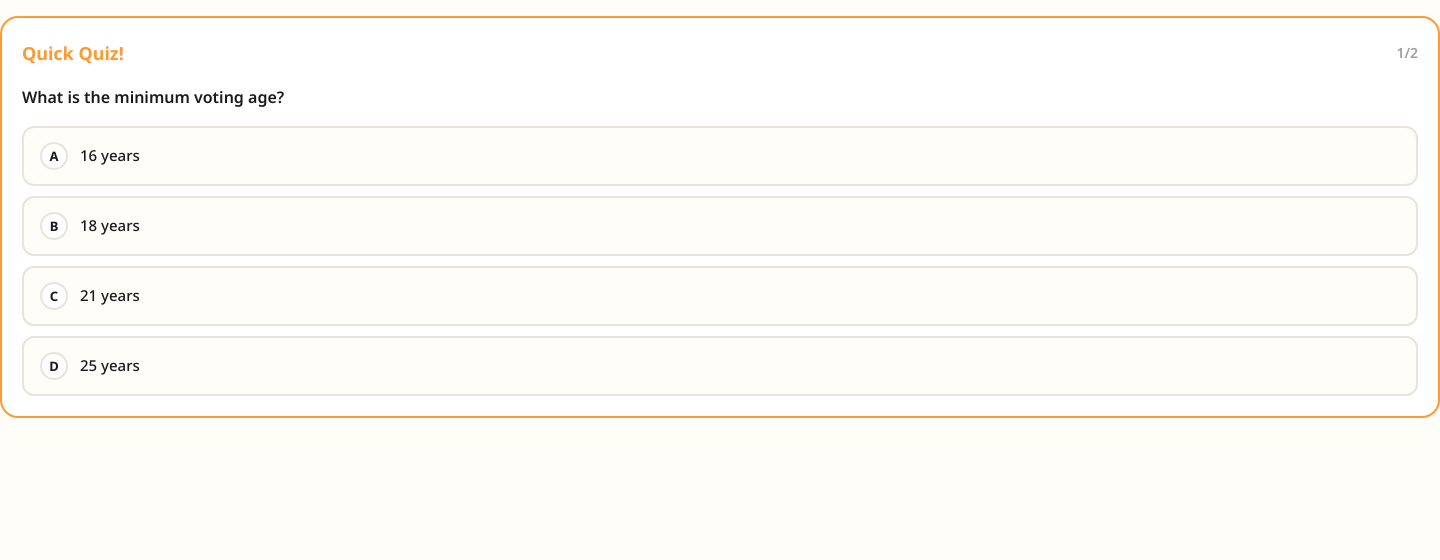
QuizCard › shows wrong feedback on incorrect answer
What coordinates should you click on to do the following:
click the button "A 16 years"
I would click on:
 (110, 155)
Its box is left=22, top=126, right=1418, bottom=186.
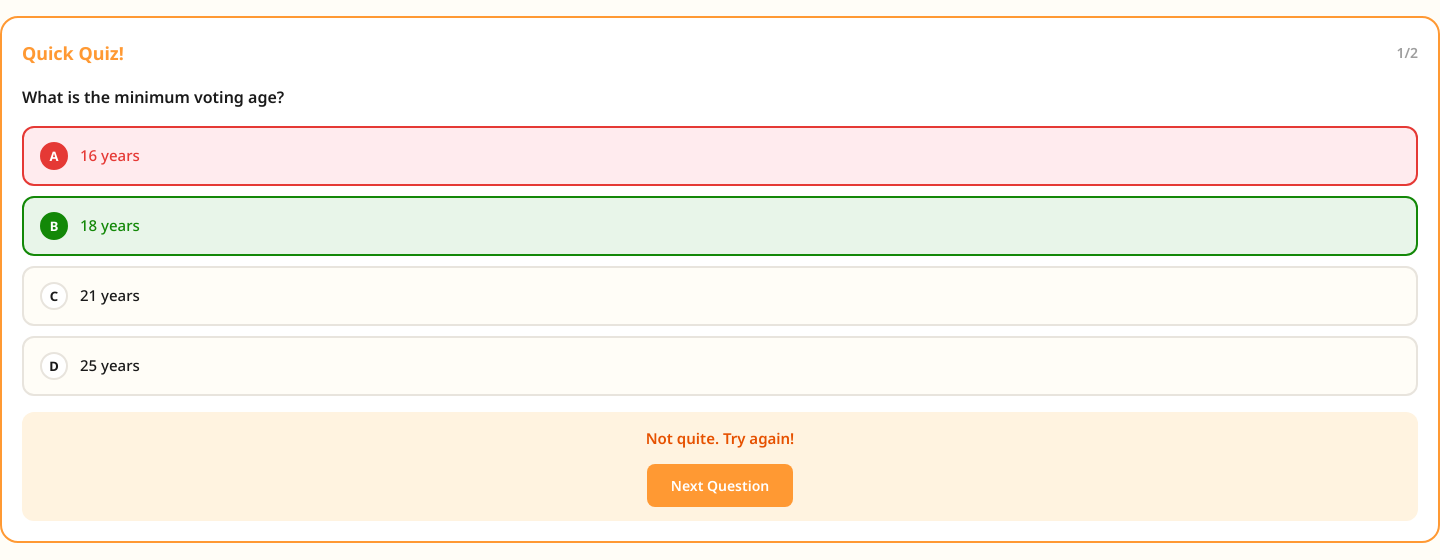
Expected: the text "Not quite. Try again!" is shown, left=646, top=428, right=794, bottom=448
